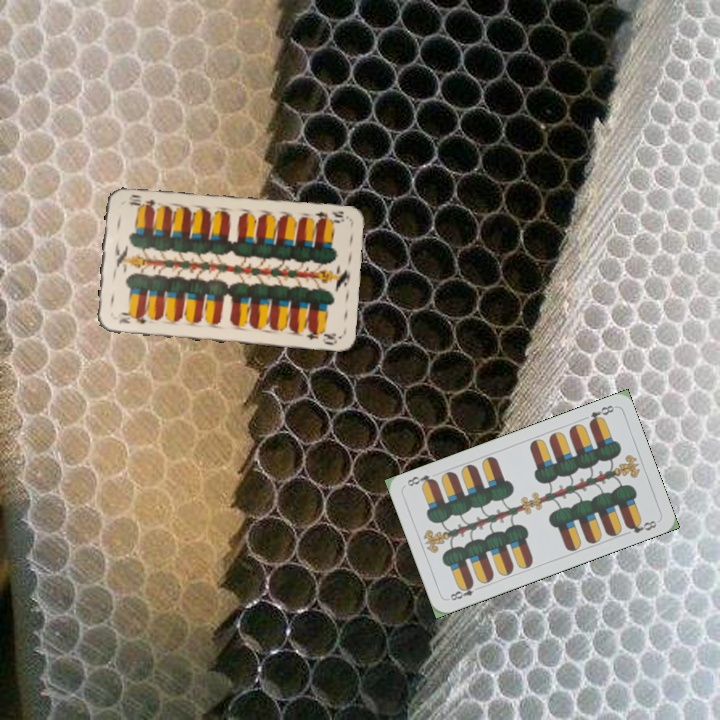E10: (308, 207, 347, 226), (115, 310, 150, 326)
E8: (444, 579, 484, 603), (585, 401, 617, 427)
